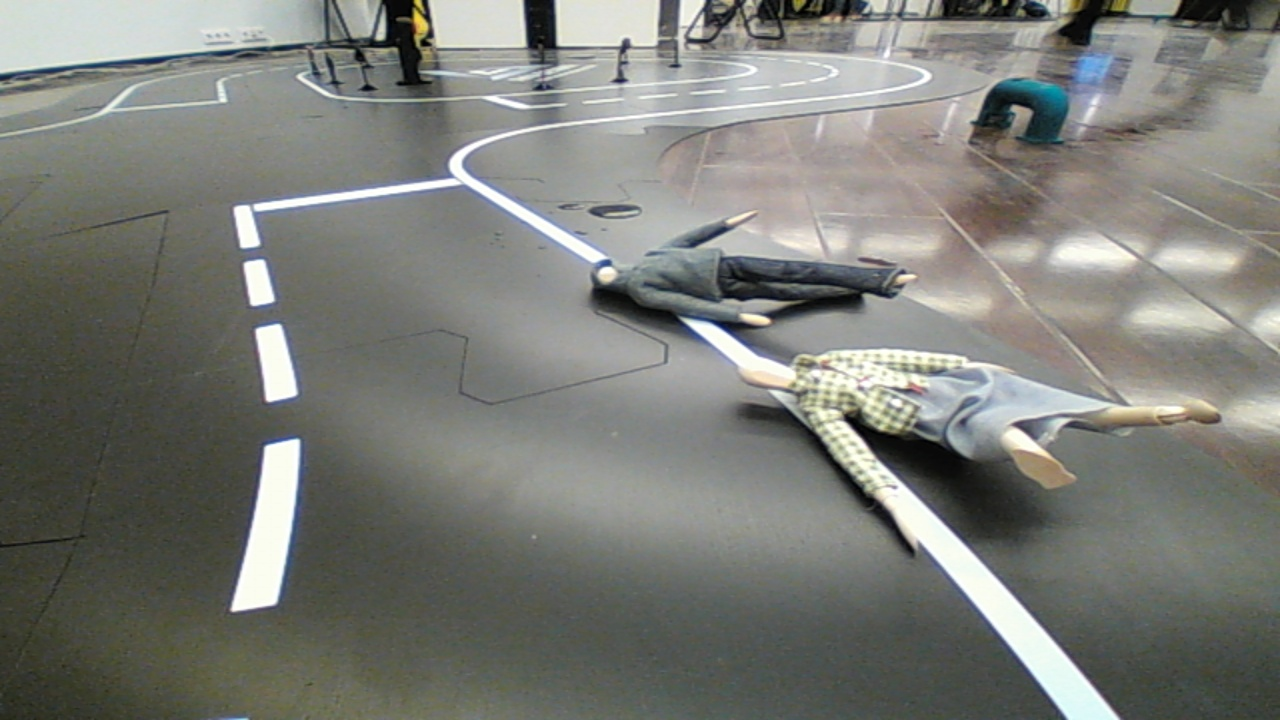Road works: (727, 326, 1236, 501), (556, 203, 911, 334)
